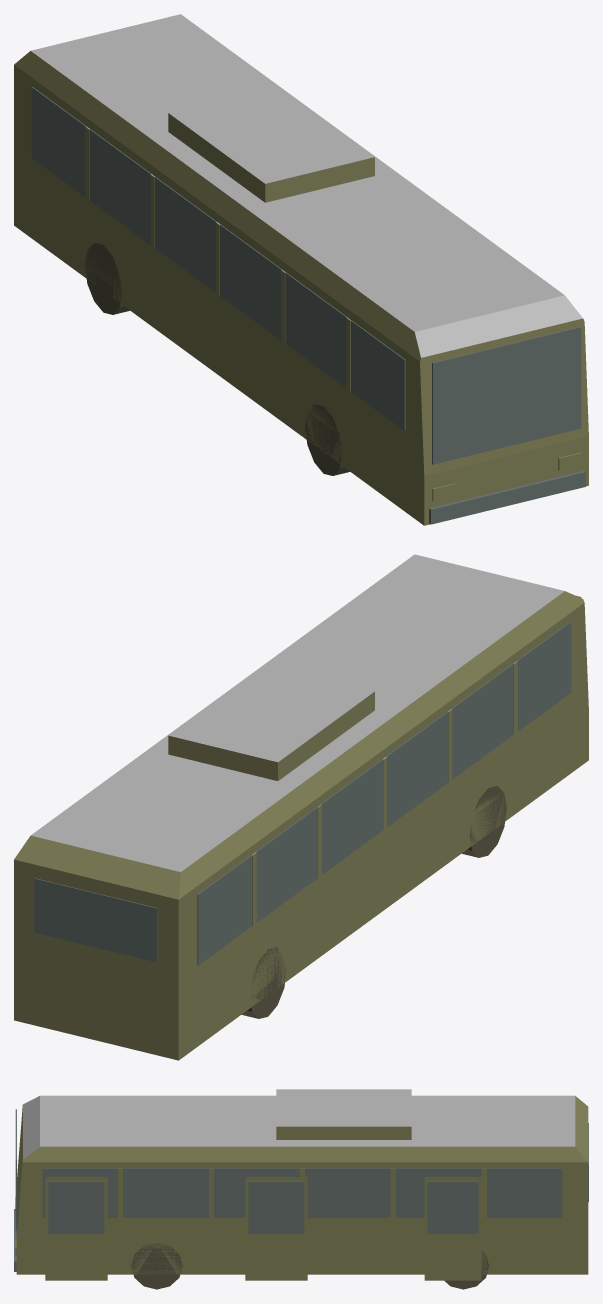
Rendered from SM_Autobus_v0_Abandonado_LOD0.fbx.
3 views of the same model, one above another, from view 1: azimuth 30°, elevation 25°; view 2: azimuth 150°, elevation 25°; view 3: azimuth 270°, elevation 25° (orthographic). The views are drawn at different scales.
Visible parts, largest first — view 1: SM_autobus_v0_LOD0; view 2: SM_autobus_v0_LOD0; view 3: SM_autobus_v0_LOD0.
Part boxes in pixels (box(x1,y1,x2,y2)): SM_autobus_v0_LOD0: box(14, 14, 588, 525); SM_autobus_v0_LOD0: box(14, 554, 588, 1060); SM_autobus_v0_LOD0: box(14, 1089, 588, 1289).
Bounding box in the file's own units: 2.61 × 3.26 × 11.07.
